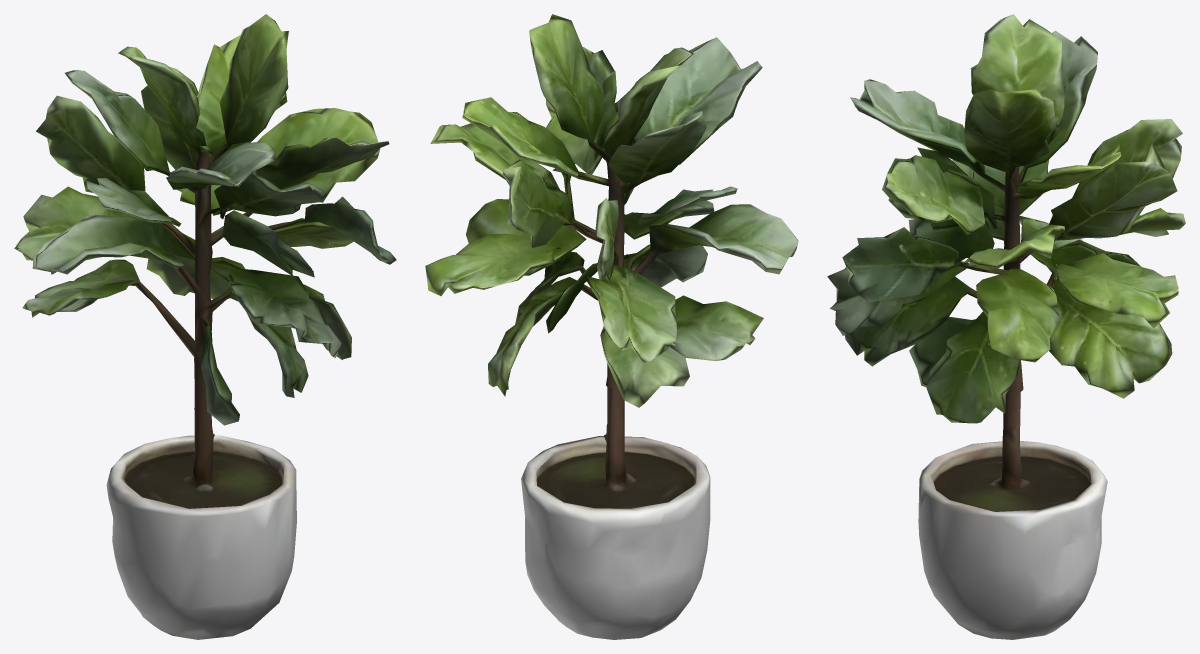
Rendered from fig-tree.glb.
The picture shows the model from 3 angles, left to right: view 1: azimuth 30°, elevation 25°; view 2: azimuth 150°, elevation 25°; view 3: azimuth 270°, elevation 25°; orthographic projection. The views are drawn at different scales.
Visible parts, largest first — view 1: tripo_node_a0584ba4-bdfe-43a0-a818-5d8a4493fdf7; view 2: tripo_node_a0584ba4-bdfe-43a0-a818-5d8a4493fdf7; view 3: tripo_node_a0584ba4-bdfe-43a0-a818-5d8a4493fdf7.
Part boxes in pixels (box(x1,y1,x2,y2)): tripo_node_a0584ba4-bdfe-43a0-a818-5d8a4493fdf7: box(14, 14, 396, 639); tripo_node_a0584ba4-bdfe-43a0-a818-5d8a4493fdf7: box(425, 14, 798, 639); tripo_node_a0584ba4-bdfe-43a0-a818-5d8a4493fdf7: box(827, 14, 1185, 639).
Size of the model in its own units: 0.6088 by 1 by 0.572.
1 material, 1 textured.
